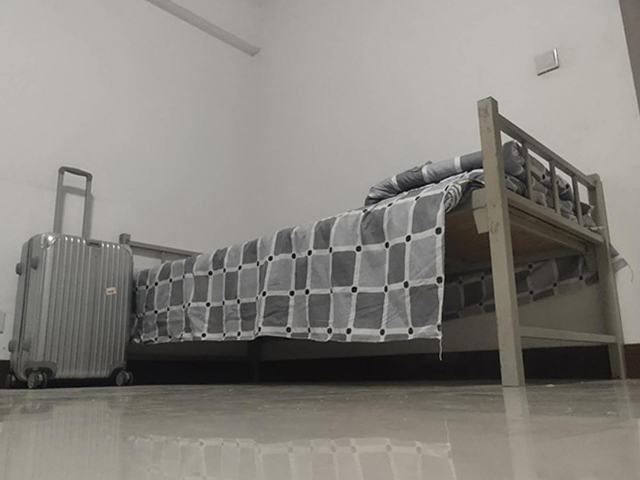bed: (115, 94, 627, 388)
